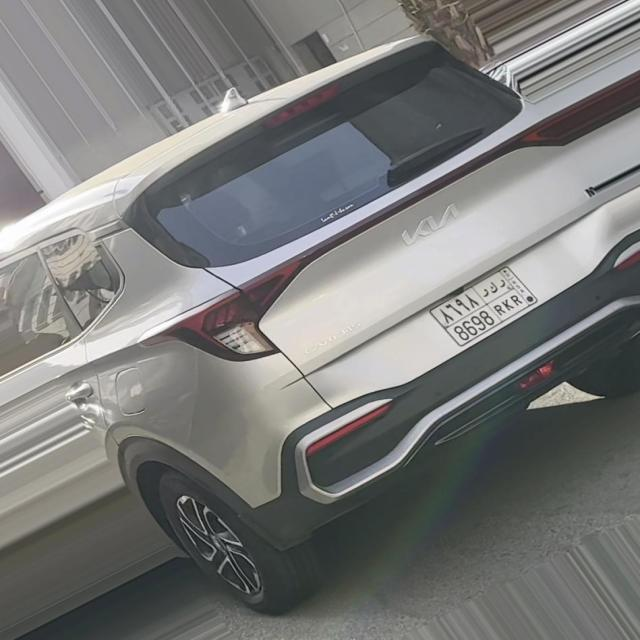Car-plate: (418, 256, 557, 357)
